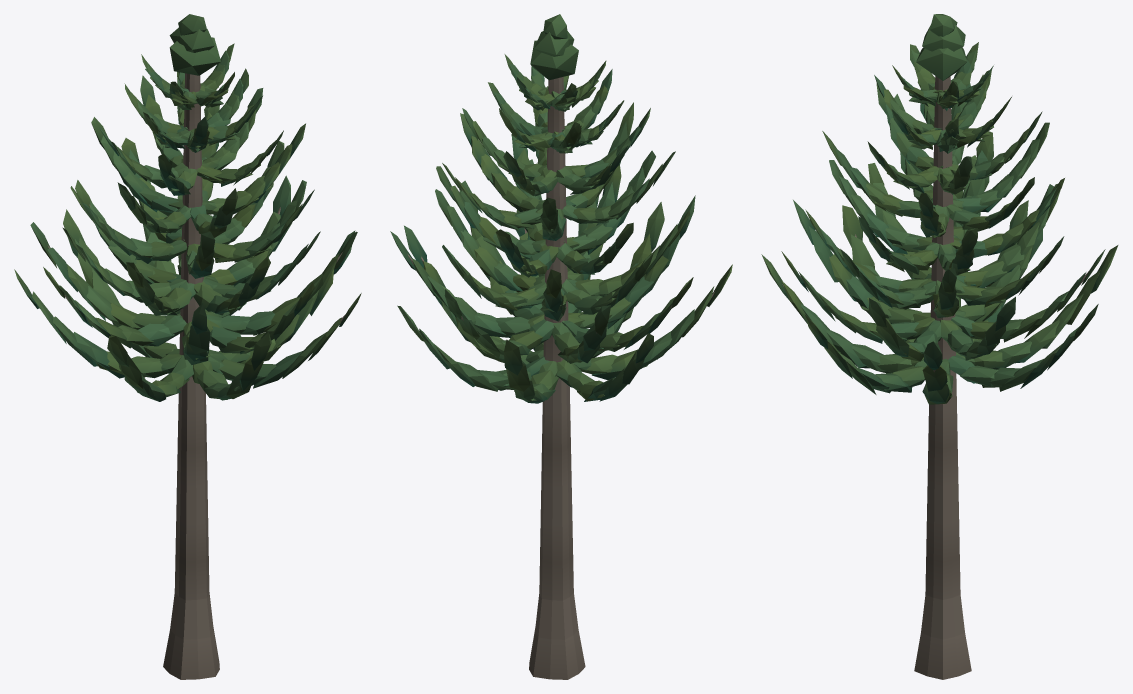
File: araucaria_b.glb
3 views of the same model, side by side, from view 1: azimuth 30°, elevation 25°; view 2: azimuth 150°, elevation 25°; view 3: azimuth 270°, elevation 25° (orthographic).
Visible parts, largest first — view 1: araucaria_b; view 2: araucaria_b; view 3: araucaria_b.
Part boxes in pixels (x1=…): araucaria_b: x1=14, y1=14, x2=361, y2=679; araucaria_b: x1=390, y1=14, x2=732, y2=679; araucaria_b: x1=761, y1=14, x2=1118, y2=679.
Bounding box in the file's own units: 6.53 × 13.51 × 6.69.
